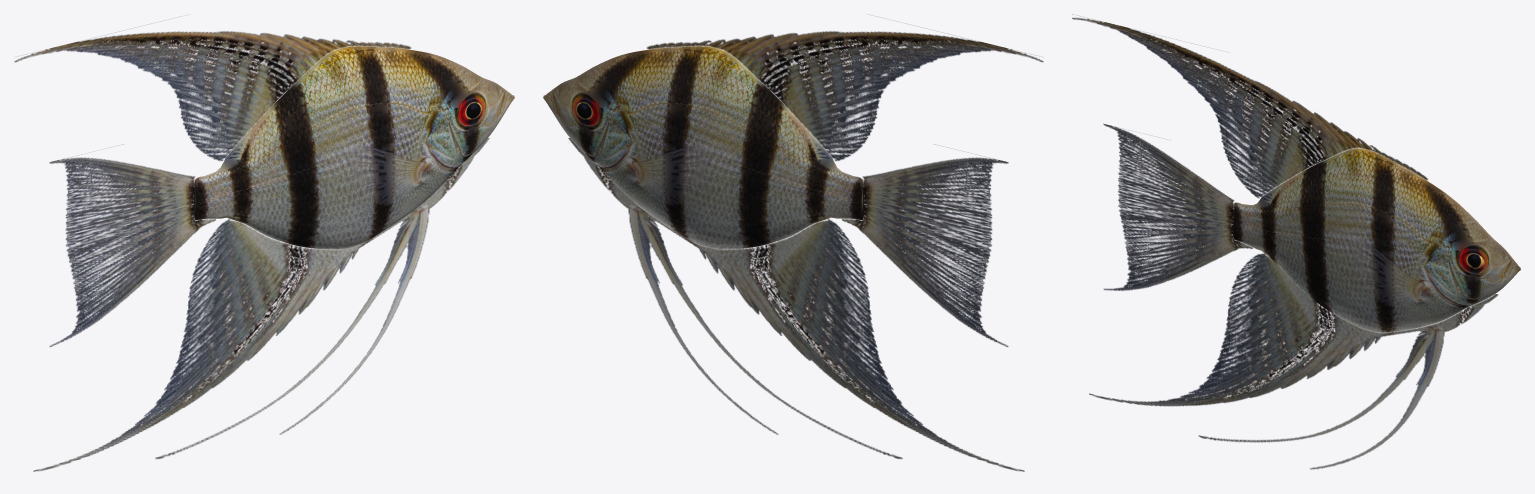
Rendered from species-scalare.glb.
The picture shows the model from 3 angles, left to right: view 1: azimuth 30°, elevation 25°; view 2: azimuth 150°, elevation 25°; view 3: azimuth 330°, elevation 25°; orthographic projection. The views are drawn at different scales.
Parts seen in each view (by area): view 1: angel; view 2: angel; view 3: angel.
Part boxes in pixels (left/top/right/bottom): angel: left=14, top=16, right=514, bottom=471; angel: left=543, top=16, right=1043, bottom=471; angel: left=1072, top=14, right=1520, bottom=469.
Size of the model in its own units: 0.1103 by 0.0933 by 0.00923.
Materials: 1 (1 with a texture image).
